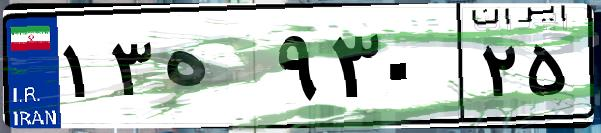0: (385, 28, 445, 110)
1: (57, 26, 110, 100)
2: (475, 38, 525, 113)
3: (330, 28, 385, 110), (110, 28, 158, 98)
5: (525, 38, 570, 115)
9: (270, 28, 330, 110)
ه: (158, 20, 270, 120)
